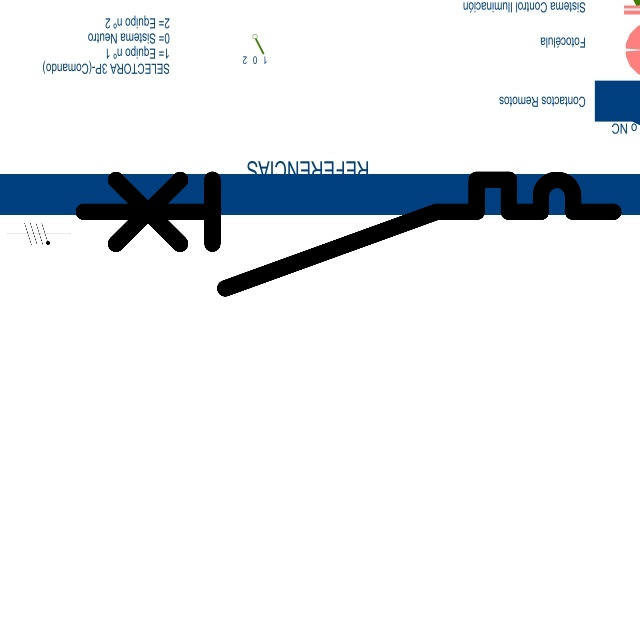interruptor_termomagnetico: (70, 166, 627, 302)
